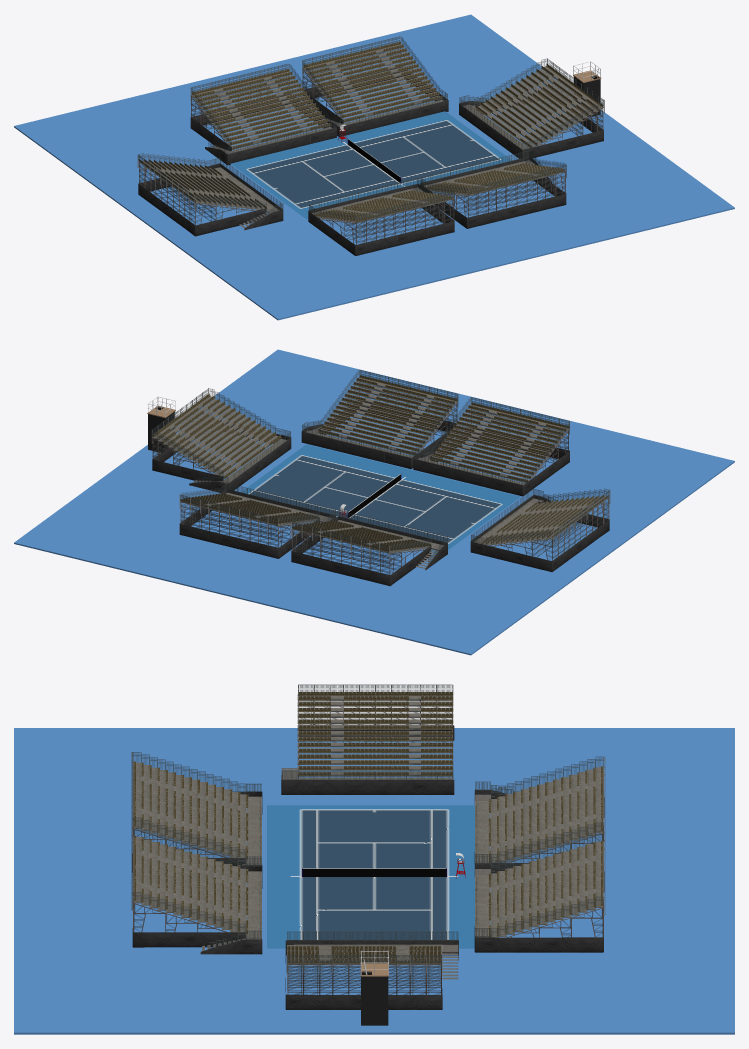
The model's file is court-right.glb.
3 renders of one model, top to bottom at view 1: azimuth 30°, elevation 25°; view 2: azimuth 150°, elevation 25°; view 3: azimuth 270°, elevation 25°, orthographic. The views are drawn at different scales.
Visible parts, largest first — view 1: Plane.001, Plane, Node_013_mel_grandstand_genericmedium_a_physics_!bk, Node_013_mel_grandstand_genericmedium_a_physics_!bk.001, Node_013_mel_grandstand_genericmedium_a_physics_!bk.002, Node_013_mel_grandstand_genericmedium_a_physics_!bk.005, Node_013_mel_grandstand_genericmedium_a_physics_!bk.003, Node_013_mel_grandstand_genericmedium_a_physics_!bk.004; view 2: Plane.001, Plane, Node_013_mel_grandstand_genericmedium_a_physics_!bk.003, Node_013_mel_grandstand_genericmedium_a_physics_!bk.004, Node_013_mel_grandstand_genericmedium_a_physics_!bk.002, Node_013_mel_grandstand_genericmedium_a_physics_!bk, Node_013_mel_grandstand_genericmedium_a_physics_!bk.005, Node_013_mel_grandstand_genericmedium_a_physics_!bk.001; view 3: Plane.001, Plane, Node_013_mel_grandstand_genericmedium_a_physics_!bk.005, Node_013_mel_grandstand_genericmedium_a_physics_!bk.004, Node_013_mel_grandstand_genericmedium_a_physics_!bk.001, Node_013_mel_grandstand_genericmedium_a_physics_!bk.002, Node_013_mel_grandstand_genericmedium_a_physics_!bk.003, Node_013_mel_grandstand_genericmedium_a_physics_!bk, Tower_Base_Wall_3, Tennis_Net_Strings.
Boxes of the visible parts, left/top/right/bottom form: Plane.001: left=14, top=14, right=734, bottom=320; Plane: left=231, top=111, right=511, bottom=219; Node_013_mel_grandstand_genericmedium_a_physics_!bk: left=190, top=63, right=336, bottom=165; Node_013_mel_grandstand_genericmedium_a_physics_!bk.001: left=302, top=36, right=448, bottom=136; Node_013_mel_grandstand_genericmedium_a_physics_!bk.002: left=459, top=58, right=604, bottom=158; Node_013_mel_grandstand_genericmedium_a_physics_!bk.005: left=137, top=153, right=283, bottom=236; Node_013_mel_grandstand_genericmedium_a_physics_!bk.003: left=308, top=177, right=454, bottom=255; Node_013_mel_grandstand_genericmedium_a_physics_!bk.004: left=420, top=150, right=566, bottom=228; Plane.001: left=14, top=349, right=734, bottom=655; Plane: left=241, top=444, right=520, bottom=552; Node_013_mel_grandstand_genericmedium_a_physics_!bk.003: left=413, top=397, right=569, bottom=496; Node_013_mel_grandstand_genericmedium_a_physics_!bk.004: left=301, top=370, right=458, bottom=468; Node_013_mel_grandstand_genericmedium_a_physics_!bk.002: left=151, top=388, right=291, bottom=492; Node_013_mel_grandstand_genericmedium_a_physics_!bk: left=291, top=510, right=447, bottom=586; Node_013_mel_grandstand_genericmedium_a_physics_!bk.005: left=470, top=488, right=610, bottom=572; Node_013_mel_grandstand_genericmedium_a_physics_!bk.001: left=179, top=483, right=335, bottom=558; Plane.001: left=14, top=728, right=734, bottom=1034; Plane: left=267, top=805, right=474, bottom=948; Node_013_mel_grandstand_genericmedium_a_physics_!bk.005: left=281, top=684, right=454, bottom=794; Node_013_mel_grandstand_genericmedium_a_physics_!bk.004: left=131, top=826, right=262, bottom=954; Node_013_mel_grandstand_genericmedium_a_physics_!bk.001: left=474, top=831, right=605, bottom=952; Node_013_mel_grandstand_genericmedium_a_physics_!bk.002: left=285, top=931, right=458, bottom=1009; Node_013_mel_grandstand_genericmedium_a_physics_!bk.003: left=131, top=752, right=262, bottom=872; Node_013_mel_grandstand_genericmedium_a_physics_!bk: left=474, top=756, right=605, bottom=868; Tower_Base_Wall_3: left=361, top=976, right=388, bottom=1025; Tennis_Net_Strings: left=302, top=869, right=446, bottom=876.
Size of the model in its own units: 98.56 by 10.11 by 98.56.
Materials: 30 (19 with a texture image).
